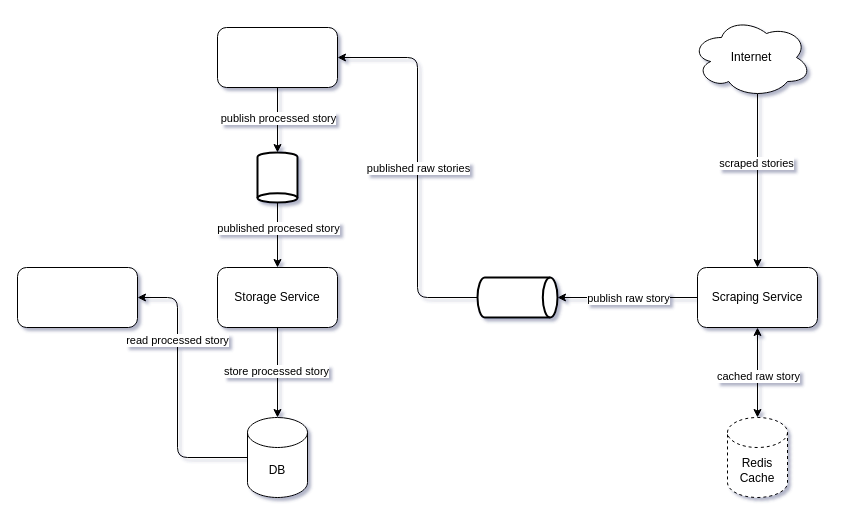
Image size: 849x521. Some labels were removed from this diagram. Each missing label, with the centre of its shape:
"API service" goes at (x=77, y=297).
"LLM Service" goes at (x=277, y=57).
